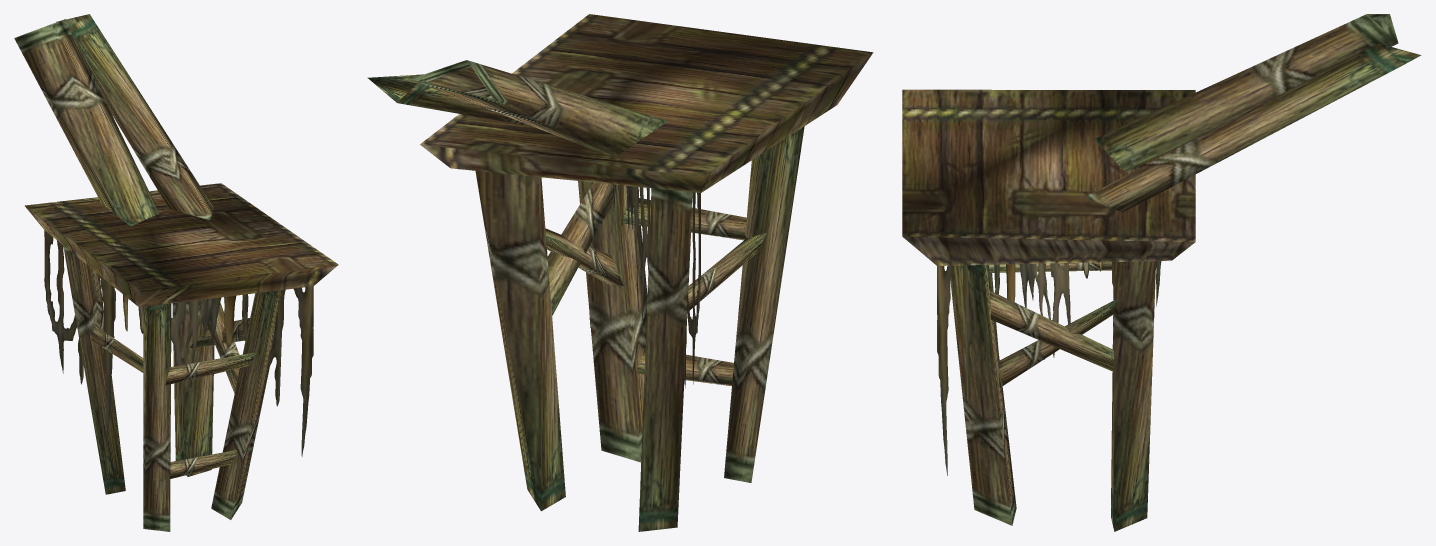
Rendered from losttreehuts03.glb.
3 renders of one model, left to right at view 1: azimuth 30°, elevation 25°; view 2: azimuth 150°, elevation 25°; view 3: azimuth 270°, elevation 25°, orthographic. The views are drawn at different scales.
Size of the model in its own units: 1.88 by 3.53 by 3.44.
Materials: 1 (1 with a texture image).
